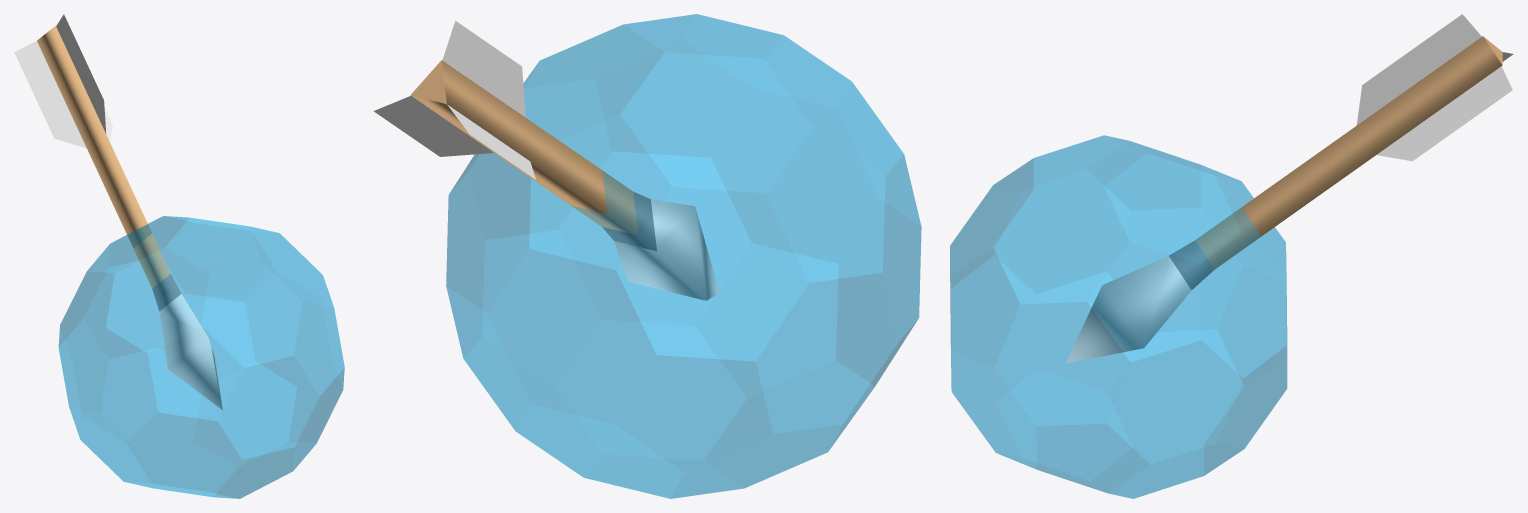
The picture shows the model from 3 angles, left to right: view 1: azimuth 30°, elevation 25°; view 2: azimuth 150°, elevation 25°; view 3: azimuth 270°, elevation 25°; orthographic projection. The views are drawn at different scales.
Visible parts, largest first — view 1: Platonic, Wood, Arrowhead, Feather2, Feather3, Thingy; view 2: Platonic, Wood, Arrowhead, Feather3, Feather1, Thingy, Feather2; view 3: Platonic, Wood, Arrowhead, Feather3, Feather1, Thingy.
Boxes of the visible parts, left/top/right/bottom form: Platonic: left=58, top=216, right=344, bottom=498; Wood: left=37, top=26, right=170, bottom=288; Arrowhead: left=159, top=294, right=222, bottom=409; Feather2: left=14, top=41, right=86, bottom=148; Feather3: left=56, top=14, right=106, bottom=133; Thingy: left=152, top=274, right=181, bottom=311; Platonic: left=446, top=14, right=921, bottom=498; Wood: left=410, top=60, right=638, bottom=235; Arrowhead: left=614, top=199, right=719, bottom=300; Feather3: left=442, top=21, right=525, bottom=117; Feather1: left=373, top=96, right=493, bottom=156; Thingy: left=602, top=192, right=656, bottom=250; Feather2: left=447, top=104, right=535, bottom=179; Platonic: left=950, top=135, right=1287, bottom=498; Wood: left=1195, top=36, right=1502, bottom=268; Arrowhead: left=1065, top=256, right=1191, bottom=363; Feather3: left=1356, top=14, right=1481, bottom=125; Feather1: left=1377, top=66, right=1512, bottom=161; Thingy: left=1169, top=240, right=1214, bottom=289.
Size of the model in its own units: 22.59 by 32.38 by 35.42.
